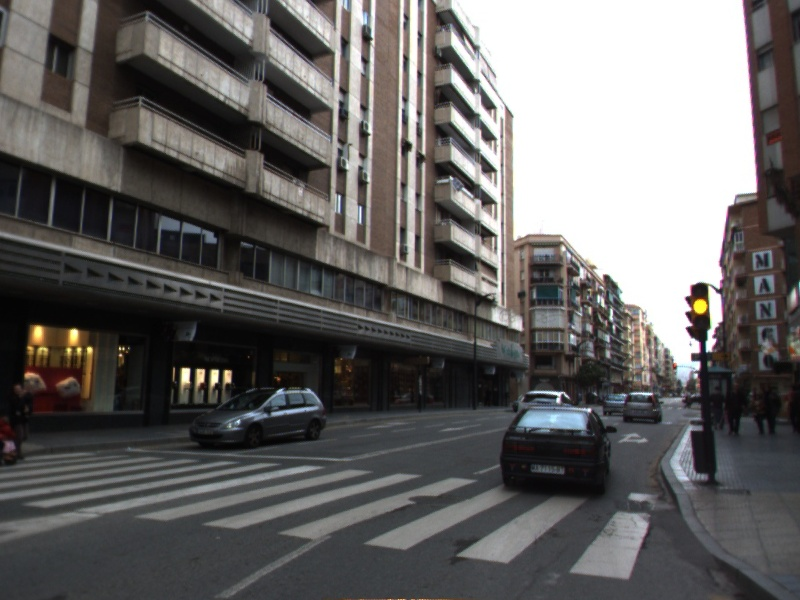STRAIGHT_RIGHT: (615, 430, 650, 446)
